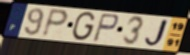3: (121, 14, 146, 48)
9: (22, 7, 45, 37)
G: (70, 11, 97, 42)
J: (143, 18, 171, 48)
P: (39, 8, 70, 39), (91, 13, 120, 44)
